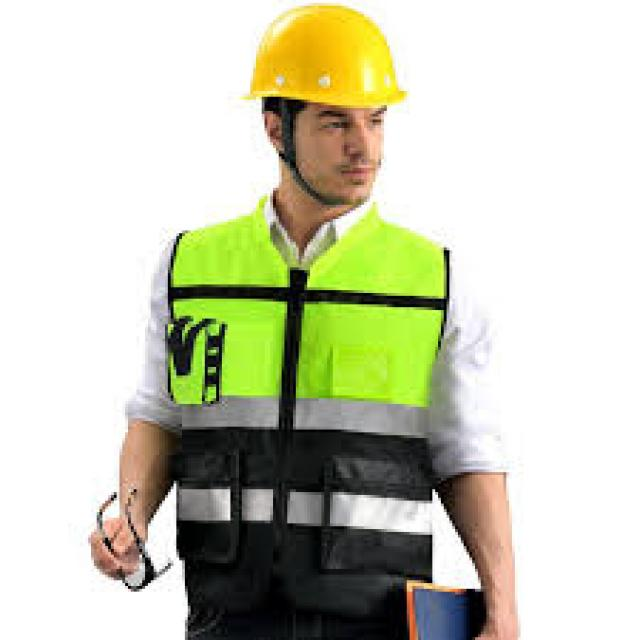Reflective-Jacket: (145, 202, 467, 464)
Safety-Helmet: (236, 0, 412, 119)
